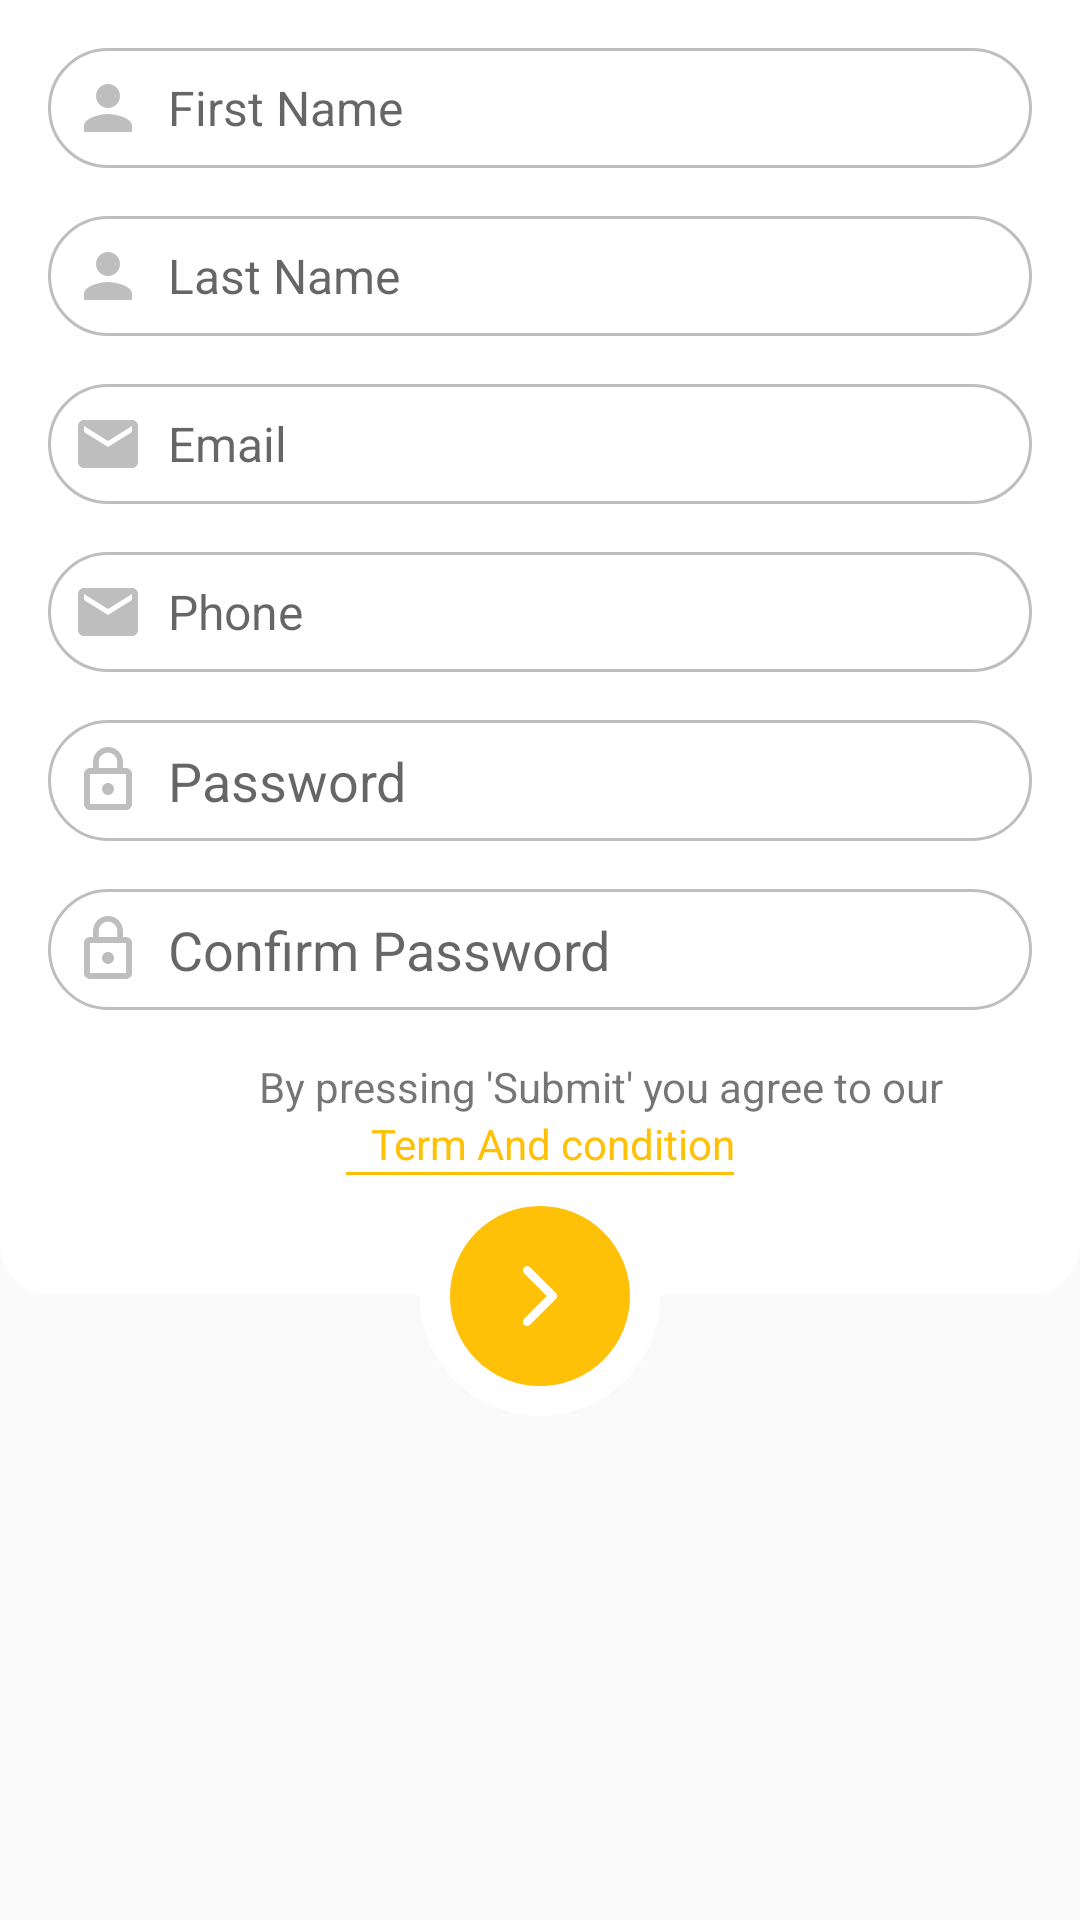

Icon bounding boxes for this 1080 × 1920 phone screenshot, format [x1, y1, x2, y2]:
arrow right: [523, 1266, 557, 1326]
